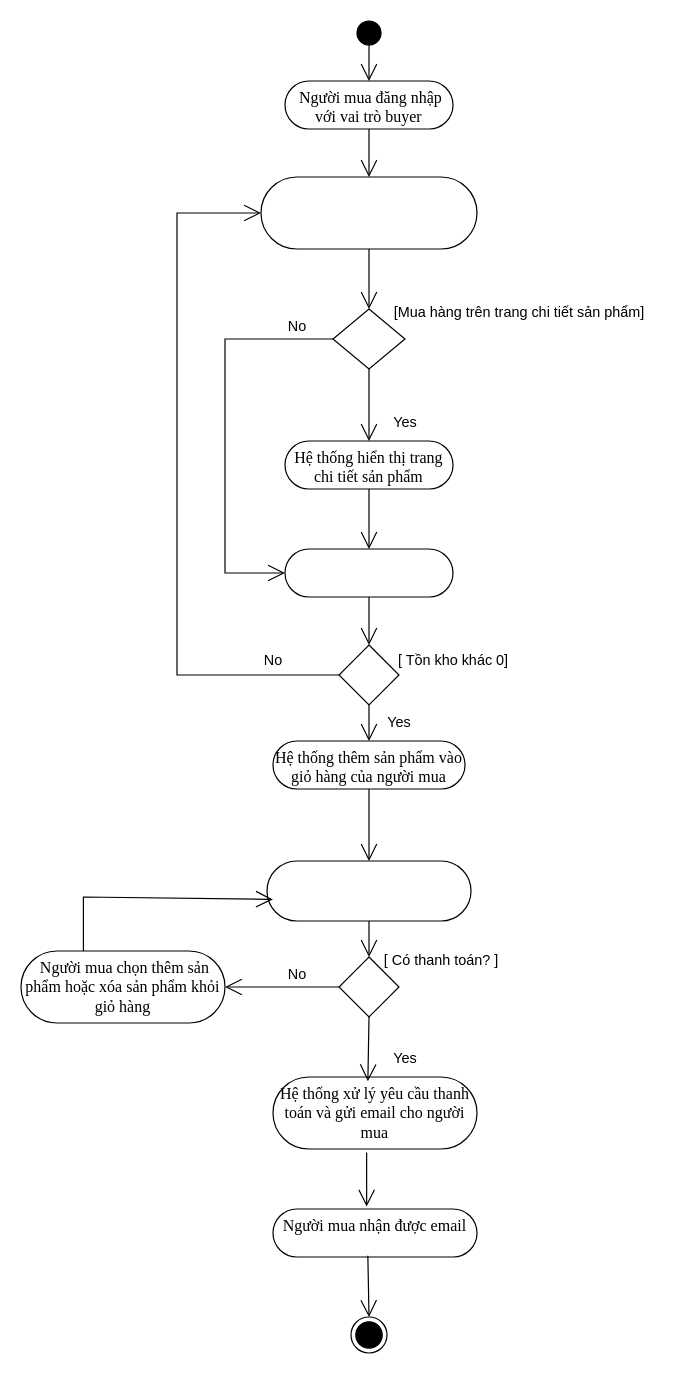
The diagram is 678 pixels wide and 1374 high, and some of its shapes have lost their labels. The shapes that lost their labels are listed below. From the top down, each one's centre as x and y in pixels, then its label:
point (368, 212): Hệ thống hiển thị trang chào mừng với các sản phẩm cho người mua lựa chọn
point (368, 572): Người mua nhấn nút mua hàng
point (368, 890): Hệ thống cập nhật giỏ hàng và hiển thị lại thông tin giỏ hàng
